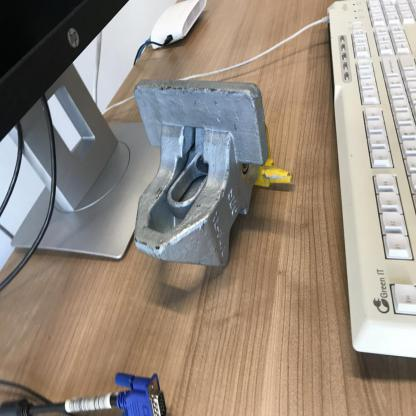Twistlock: (131, 73, 296, 274)
